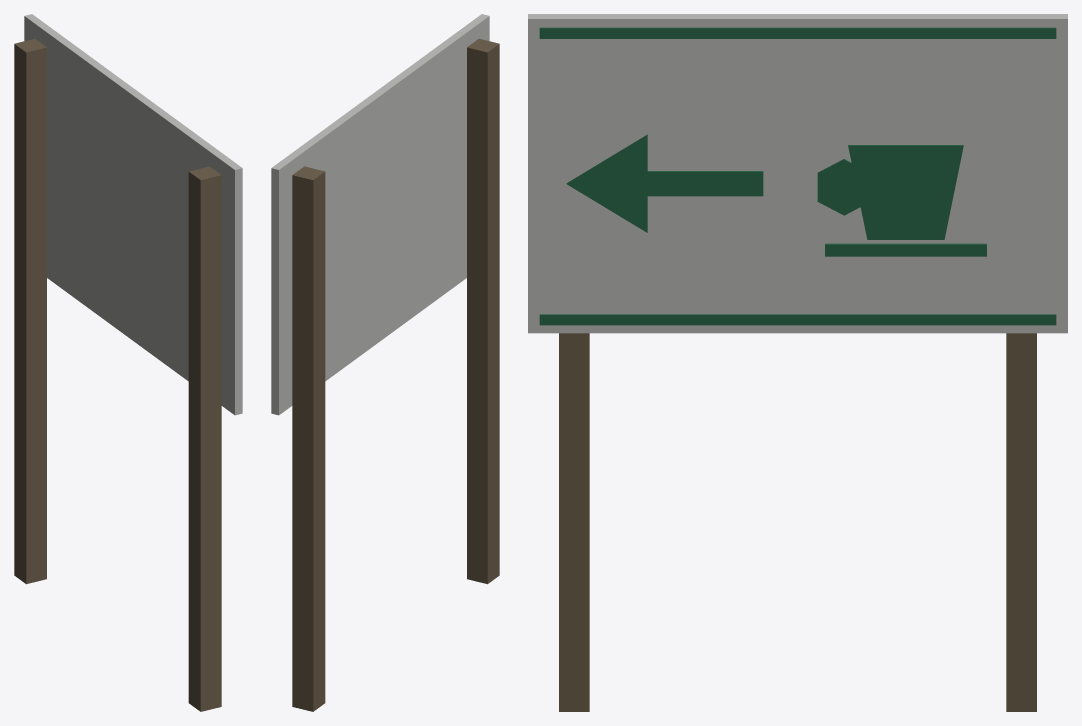
File: SM_Prop_road_cafesign_3_LOD1.glb
3 renders of one model, left to right at view 1: azimuth 30°, elevation 25°; view 2: azimuth 150°, elevation 25°; view 3: azimuth 270°, elevation 25°, orthographic. The views are drawn at different scales.
Parts seen in each view (by area): view 1: SM_Prop_road_cafesign_3_LOD1; view 2: SM_Prop_road_cafesign_3_LOD1; view 3: SM_Prop_road_cafesign_3_LOD1.
Boxes of the visible parts, x1=… form: SM_Prop_road_cafesign_3_LOD1: x1=14, y1=14, x2=242, y2=711; SM_Prop_road_cafesign_3_LOD1: x1=271, y1=14, x2=499, y2=711; SM_Prop_road_cafesign_3_LOD1: x1=528, y1=14, x2=1067, y2=711.
Size of the model in its own units: 0.122 by 2 by 1.4.
